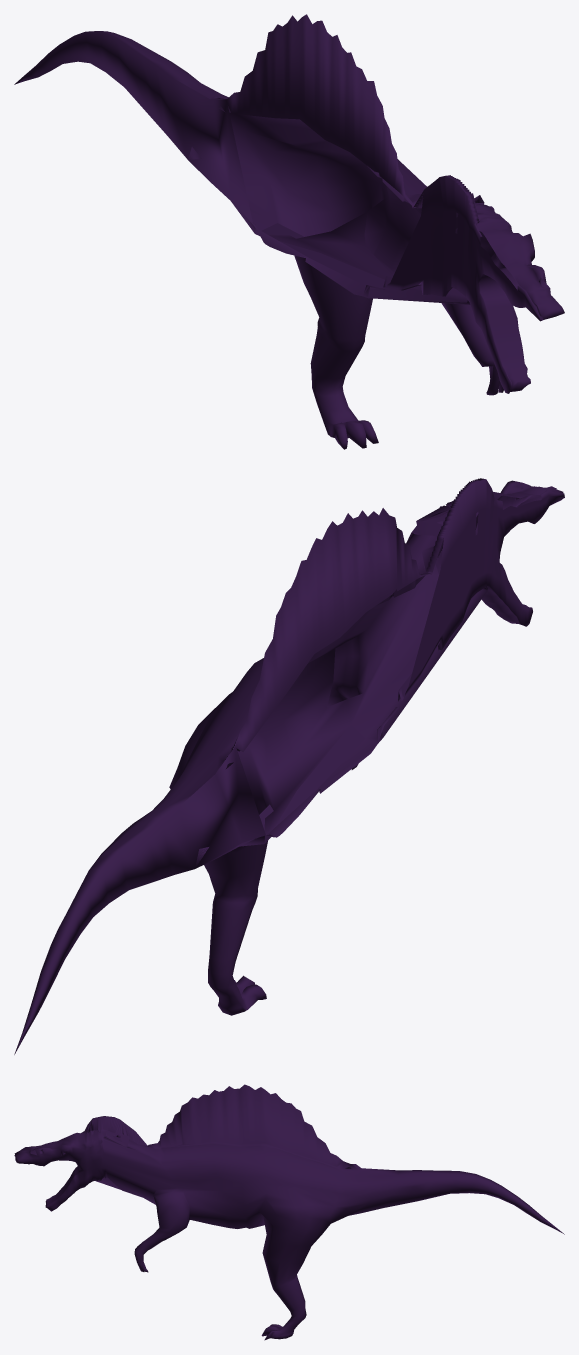
File: spinosaurio_morado copy.glb
The picture shows the model from 3 angles, top to bottom: view 1: azimuth 30°, elevation 25°; view 2: azimuth 150°, elevation 25°; view 3: azimuth 270°, elevation 25°; orthographic projection. The views are drawn at different scales.
Visible parts, largest first — view 1: Cube; view 2: Cube; view 3: Cube.
Boxes of the visible parts, x1,y1,x2,y2 form: Cube: (14,14,564,449); Cube: (14,478,564,1054); Cube: (14,1084,564,1340).
Size of the model in its own units: 1.01 by 4.51 by 9.49.
